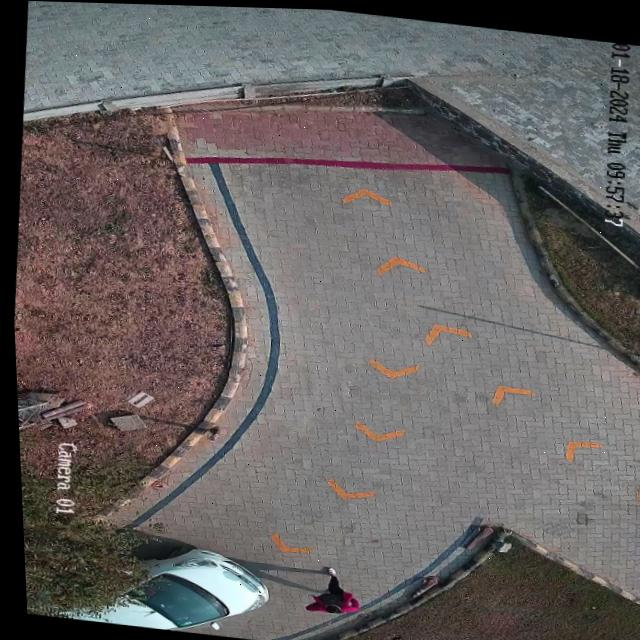car: (73, 546, 261, 630)
